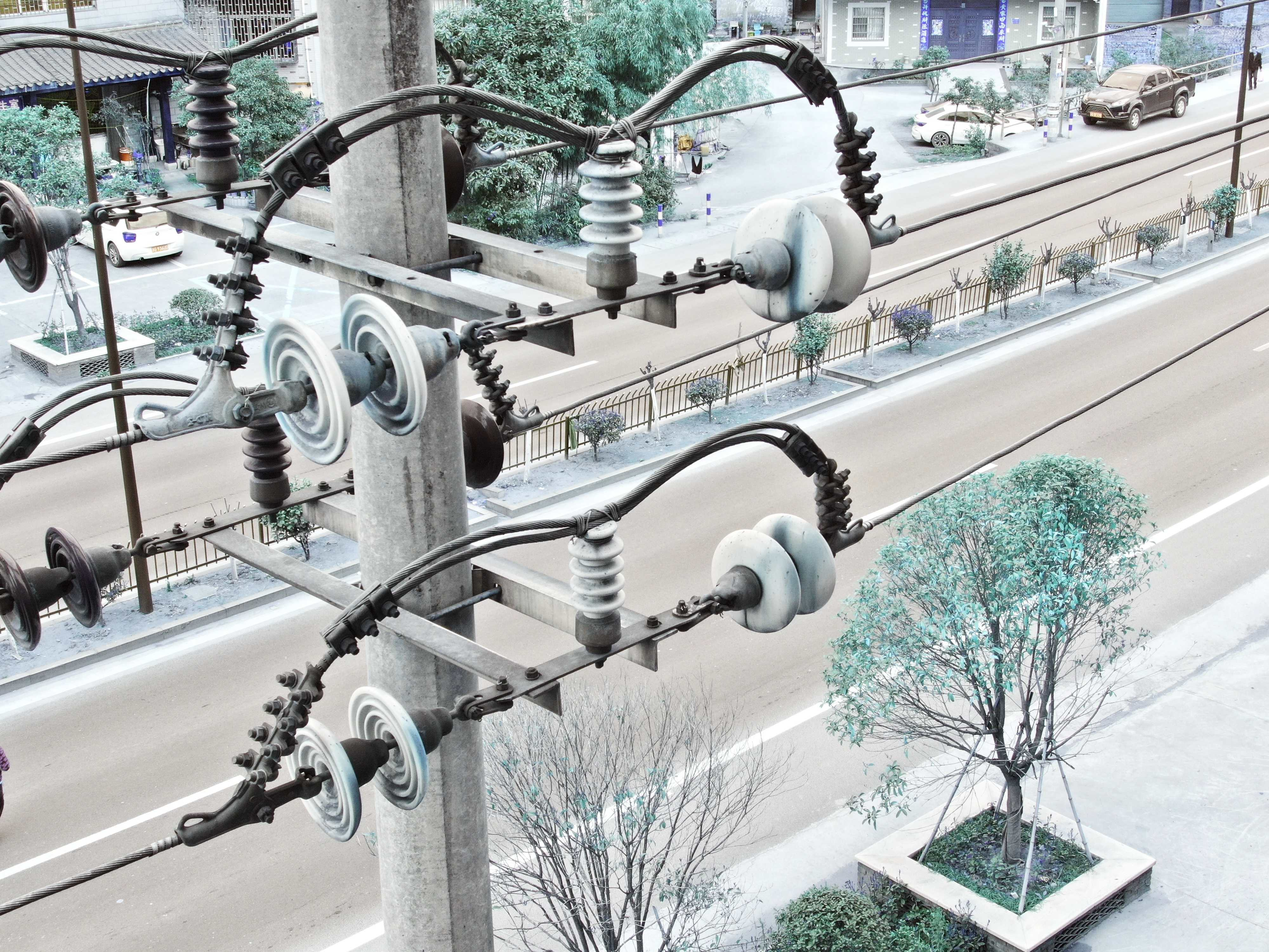severe_soiling_no_discharge_whole: (259, 283, 463, 470), (279, 672, 463, 845), (721, 187, 875, 329), (706, 510, 842, 635), (570, 127, 658, 299), (561, 512, 631, 653)
